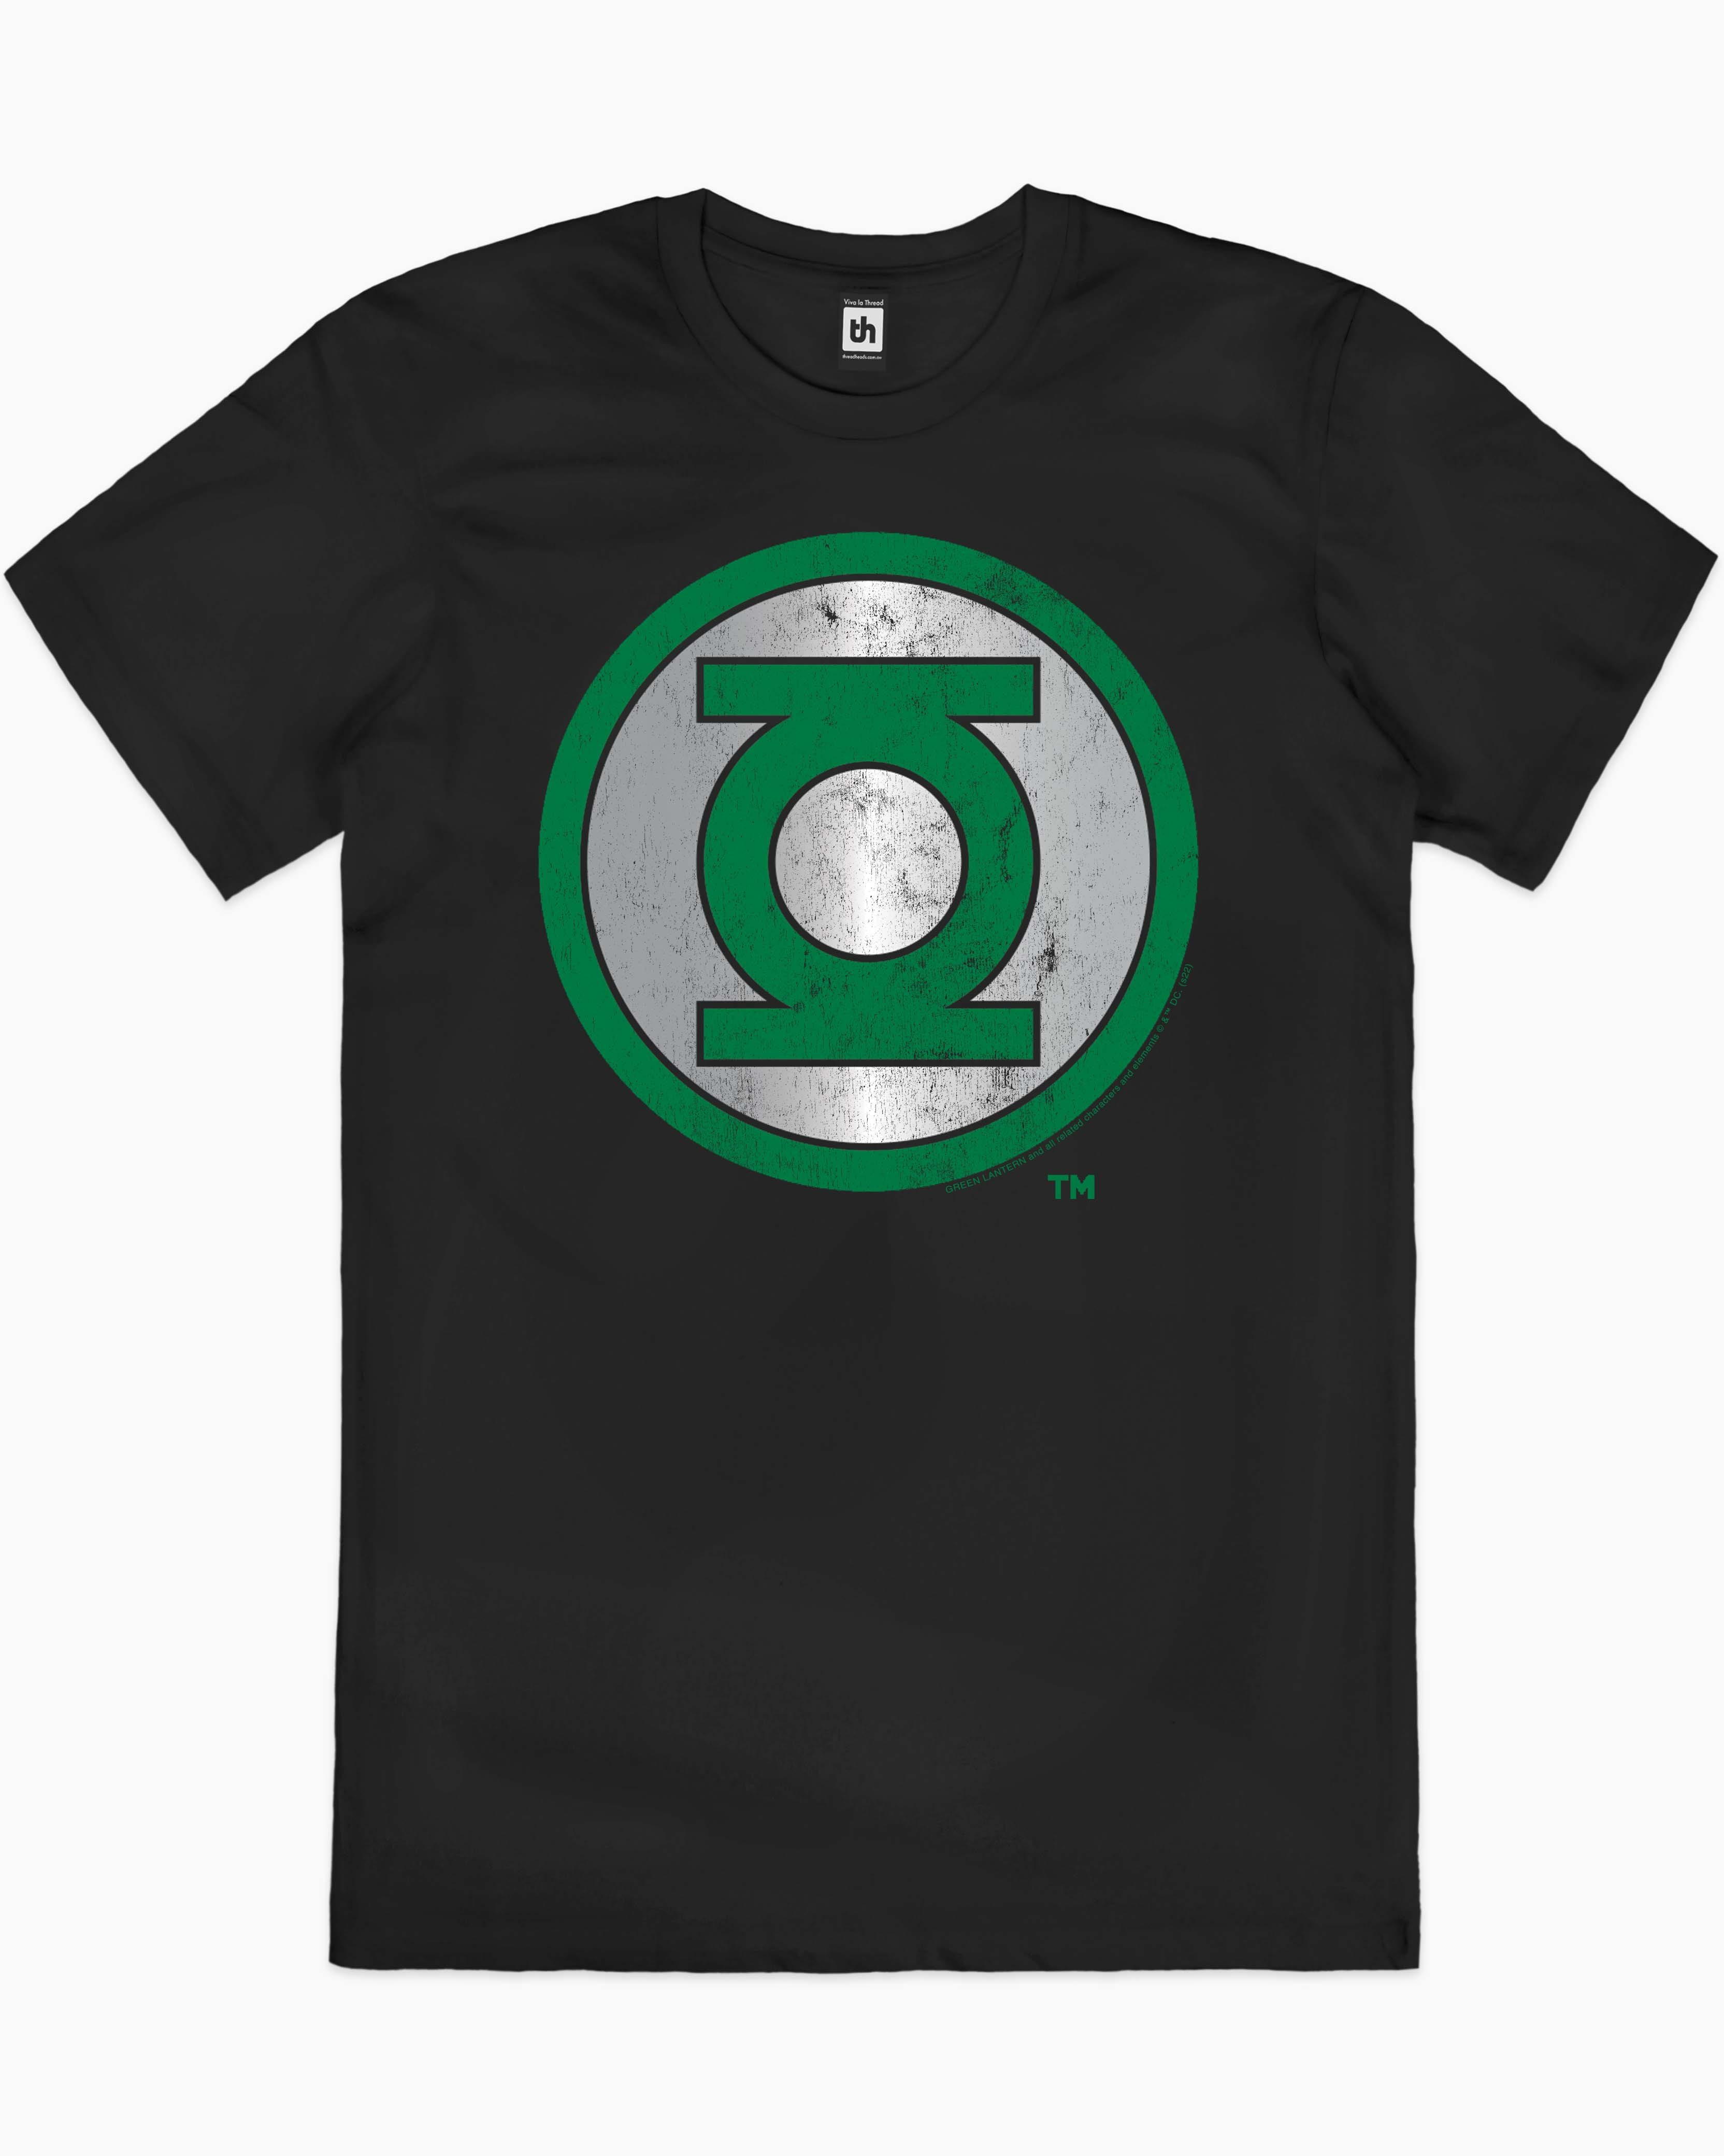design: (524, 514, 1217, 1211)
